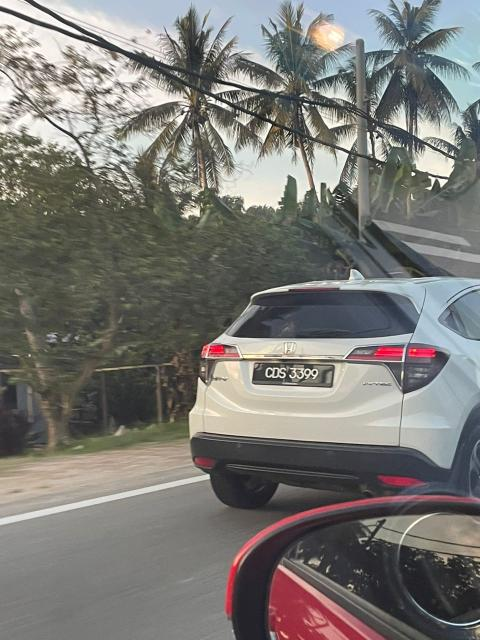License_Plate: (256, 359, 329, 390)
car: (183, 267, 480, 518)
